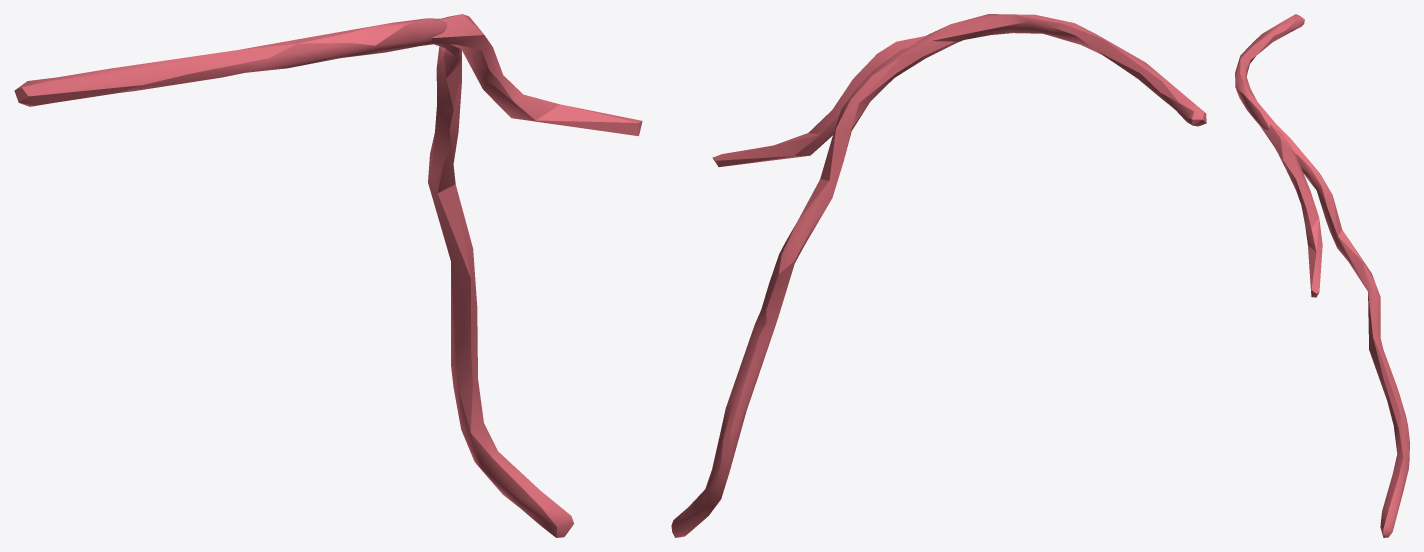
The model's file is fma51378_cx113.glb.
3 views of the same model, side by side, from view 1: azimuth 30°, elevation 25°; view 2: azimuth 150°, elevation 25°; view 3: azimuth 270°, elevation 25° (orthographic). The views are drawn at different scales.
Visible parts, largest first — view 1: FMA51378_CX113; view 2: FMA51378_CX113; view 3: FMA51378_CX113.
Part boxes in pixels (x1,y1,x2,y2): FMA51378_CX113: [14, 14, 642, 537]; FMA51378_CX113: [671, 14, 1206, 537]; FMA51378_CX113: [1235, 14, 1409, 537].
Size of the model in its own units: 0.0157 by 0.016 by 0.0068.
